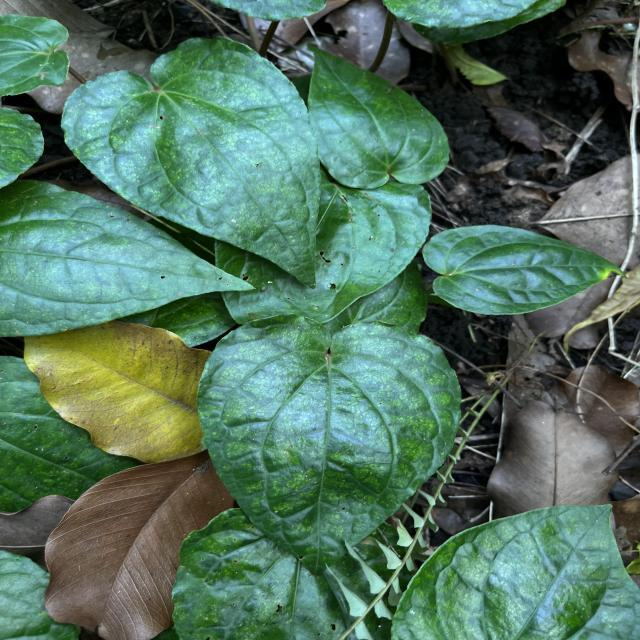Piper betle: (194, 310, 466, 580)
